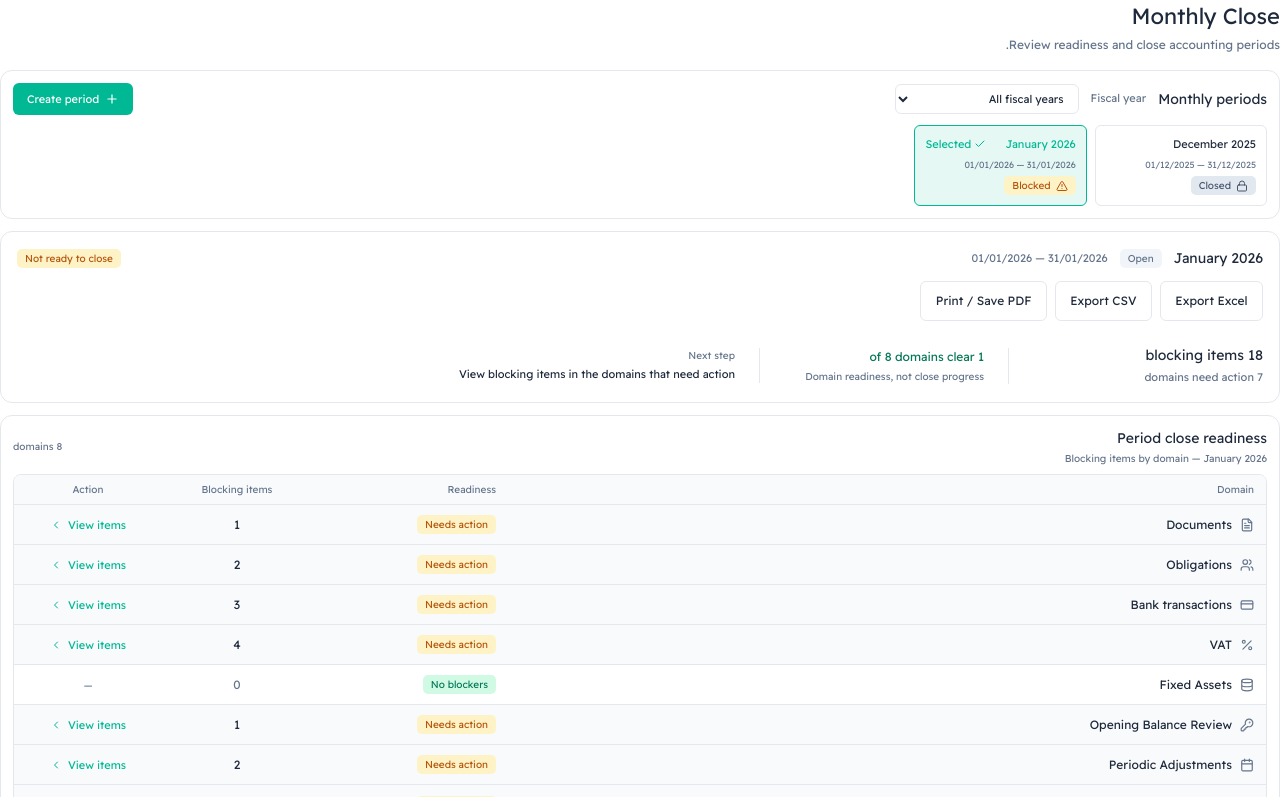
it: MonthlyClose › shows all selected period blockers and preserves authorized state actions
Expected: the text "18 blocking items" is shown, [1146, 346, 1263, 364]
Expected: the button with aria-label "Documents 1" is shown, [50, 517, 126, 533]
Click the button "December 2025 01/12/2025 — 31/12/2025 Closed" at x=1181, y=166, box [1095, 125, 1267, 206]
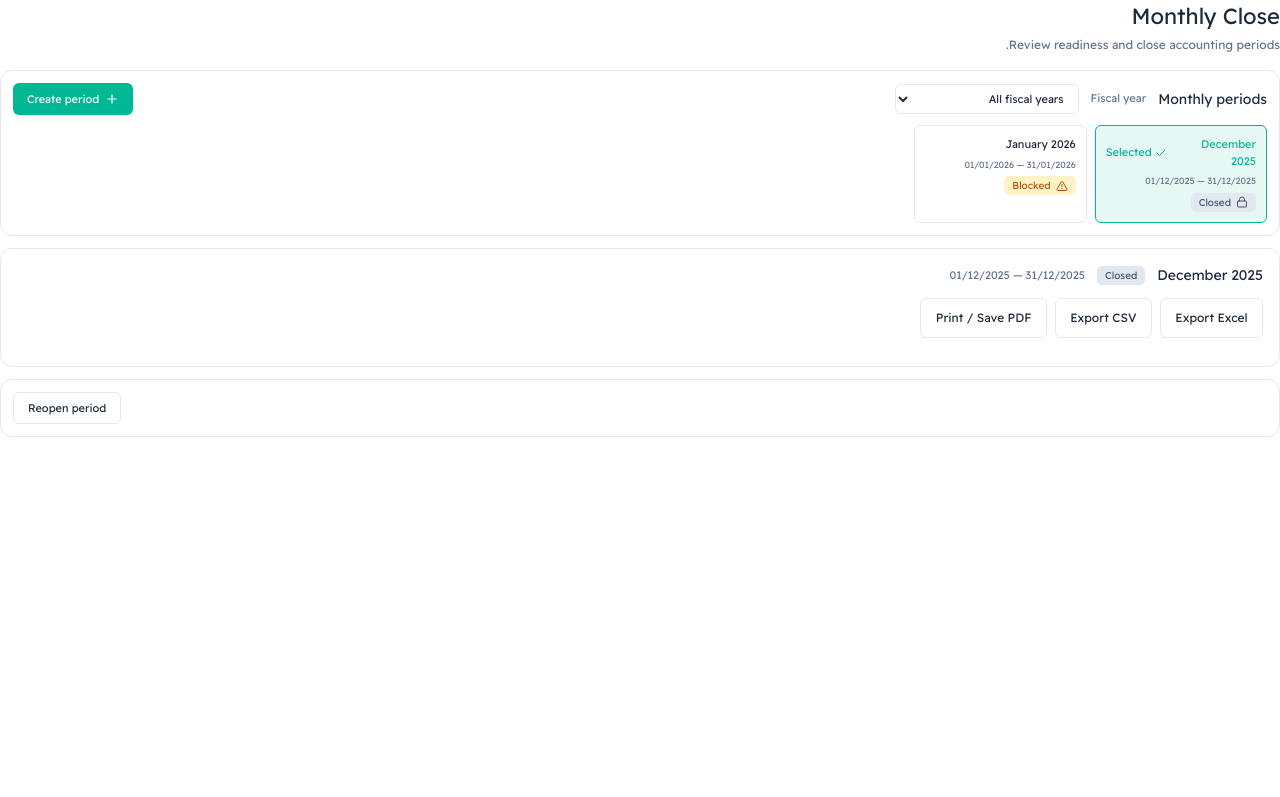
Expected: the text "ready to close" is gone
Expected: the button "Reopen period" is enabled, [13, 392, 121, 424]
